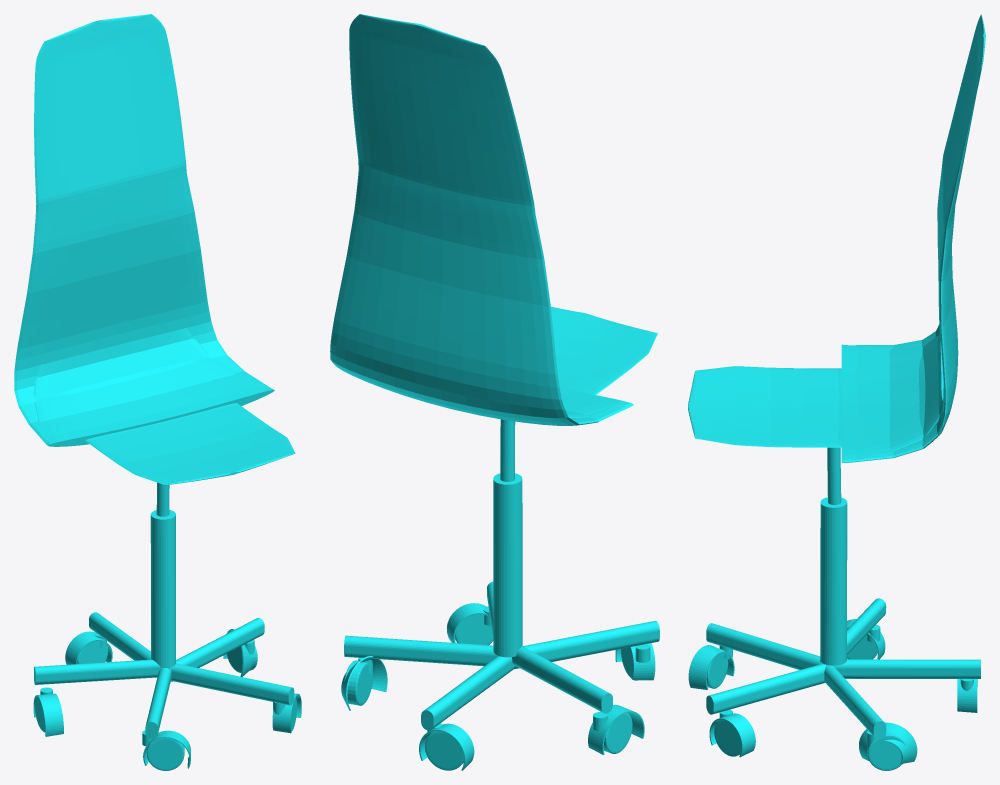
The model's file is office_chair.glb.
3 renders of one model, left to right at view 1: azimuth 30°, elevation 25°; view 2: azimuth 150°, elevation 25°; view 3: azimuth 270°, elevation 25°, orthographic. The views are drawn at different scales.
Parts seen in each view (by area): view 1: seat_23, leg_20, chair base_16, chair base_21, chair base_19, chair base_18, wheel_4, chair base_17, wheel cap_2, wheel cap_5, wheel cap_8, wheel_6; view 2: seat_23, leg_20, chair base_19, chair base_17, chair base_16, chair base_18, wheel_6, wheel cap_2, wheel_7, wheel_10, leg_22, wheel cap_5 (+4 smaller); view 3: seat_23, leg_20, chair base_18, chair base_21, chair base_17, chair base_19, wheel cap_3, wheel_10, chair base_16, wheel cap_9, wheel cap_8, leg_22 (+3 smaller).
Boxes of the visible parts, x1=… form: seat_23: x1=14, y1=14, x2=295, y2=485; leg_20: x1=150, y1=510, x2=175, y2=667; chair base_16: x1=34, y1=659, x2=169, y2=684; chair base_21: x1=170, y1=663, x2=294, y2=705; chair base_19: x1=171, y1=618, x2=264, y2=681; chair base_18: x1=89, y1=612, x2=150, y2=660; wheel_4: x1=147, y1=732, x2=184, y2=770; chair base_17: x1=145, y1=667, x2=171, y2=738; wheel cap_2: x1=33, y1=693, x2=63, y2=736; wheel cap_5: x1=65, y1=631, x2=112, y2=664; wheel cap_8: x1=272, y1=693, x2=301, y2=733; wheel_6: x1=77, y1=641, x2=108, y2=663; seat_23: x1=330, y1=14, x2=657, y2=425; leg_20: x1=493, y1=473, x2=522, y2=657; chair base_19: x1=344, y1=635, x2=497, y2=666; chair base_17: x1=513, y1=620, x2=659, y2=669; chair base_16: x1=511, y1=646, x2=612, y2=713; chair base_18: x1=421, y1=656, x2=514, y2=730; wheel_6: x1=424, y1=731, x2=463, y2=770; wheel cap_2: x1=588, y1=704, x2=644, y2=754; wheel_7: x1=455, y1=614, x2=493, y2=645; wheel_10: x1=344, y1=660, x2=372, y2=705; leg_22: x1=500, y1=419, x2=515, y2=481; wheel cap_5: x1=419, y1=723, x2=474, y2=770; seat_23: x1=688, y1=14, x2=985, y2=462; leg_20: x1=820, y1=497, x2=847, y2=665; chair base_18: x1=834, y1=659, x2=980, y2=678; chair base_21: x1=706, y1=663, x2=826, y2=714; chair base_17: x1=706, y1=623, x2=822, y2=669; chair base_19: x1=824, y1=665, x2=886, y2=739; wheel cap_3: x1=688, y1=645, x2=734, y2=689; wheel_10: x1=867, y1=732, x2=906, y2=770; chair base_16: x1=820, y1=598, x2=886, y2=662; wheel cap_9: x1=859, y1=722, x2=917, y2=763; wheel cap_8: x1=709, y1=713, x2=755, y2=757; leg_22: x1=827, y1=447, x2=841, y2=504.
Bounding box in the file's own units: 0.4357 × 1.12 × 0.4448.
